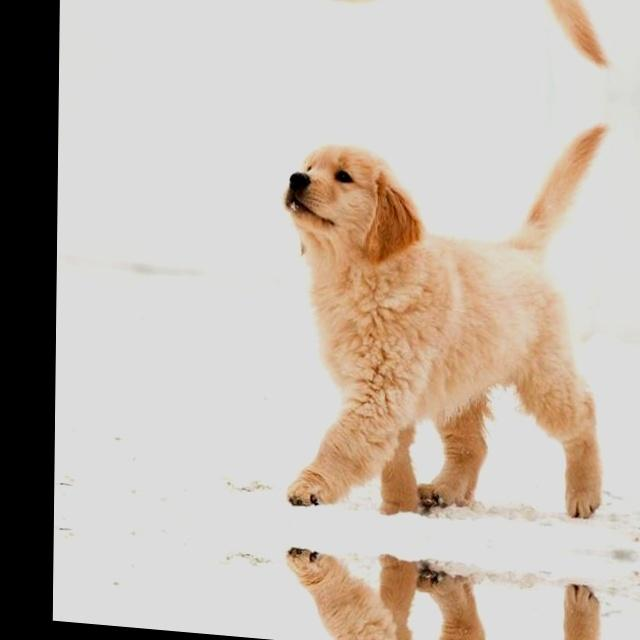dog: (264, 110, 423, 308), (268, 0, 424, 34)
